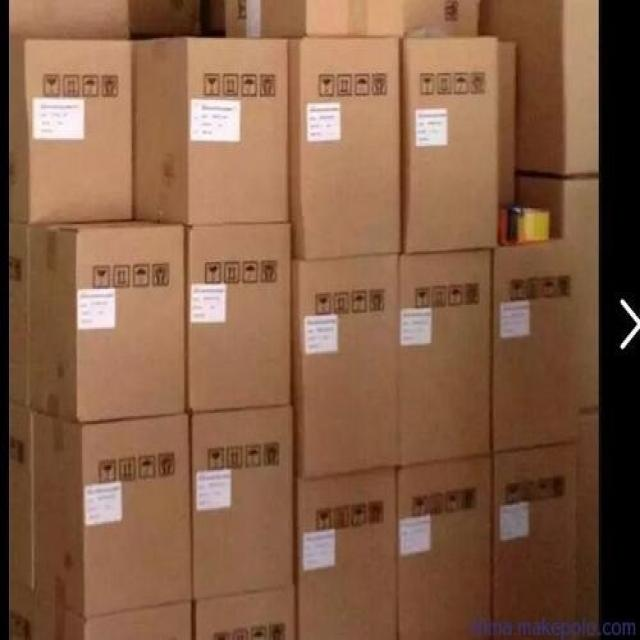box: (9, 403, 193, 618), (7, 219, 185, 423), (132, 38, 290, 226), (290, 37, 403, 261), (291, 254, 400, 480), (498, 177, 598, 413), (8, 38, 132, 224), (480, 1, 600, 181), (400, 39, 497, 252), (188, 406, 295, 599), (400, 247, 493, 467), (185, 221, 292, 411), (492, 236, 582, 454), (294, 467, 398, 638), (397, 453, 493, 638), (493, 443, 579, 638), (10, 582, 192, 638), (225, 0, 406, 39), (192, 584, 297, 638), (576, 409, 600, 638), (9, 1, 129, 41), (128, 2, 225, 39), (497, 40, 518, 204), (406, 2, 480, 39)
